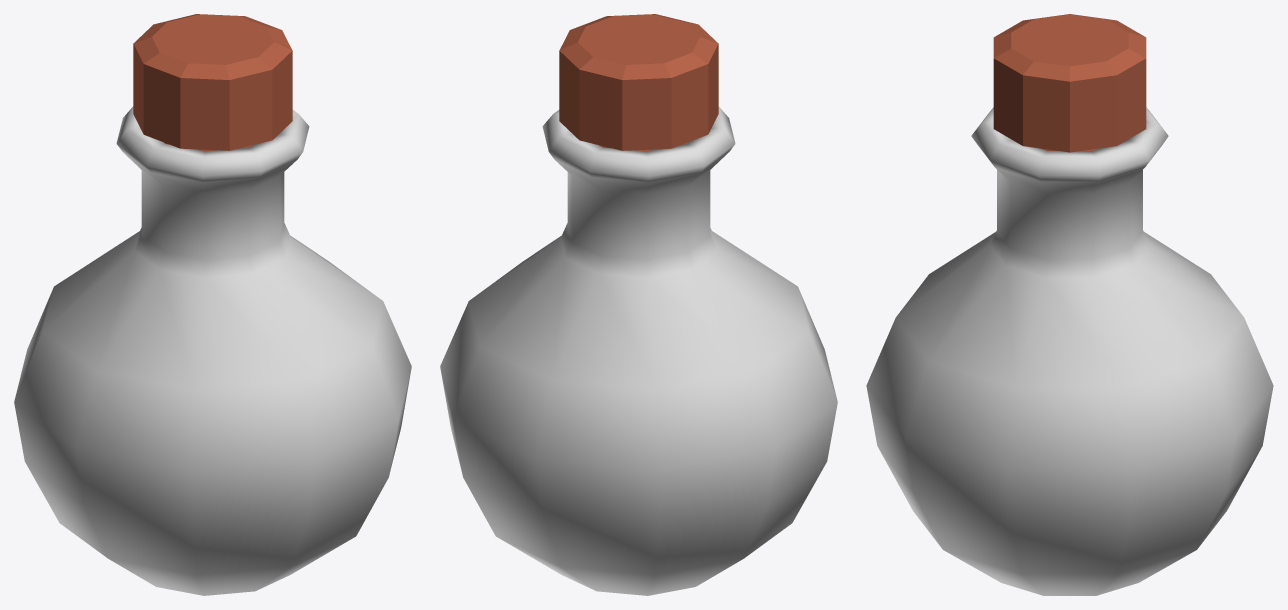
File: Potion_Use.fbx
3 renders of one model, left to right at view 1: azimuth 30°, elevation 25°; view 2: azimuth 150°, elevation 25°; view 3: azimuth 270°, elevation 25°, orthographic.
Parts seen in each view (by area): view 1: Potion, Potion_cap; view 2: Potion, Potion_cap; view 3: Potion, Potion_cap.
Boxes of the visible parts, x1,y1,x2,y2 form: Potion: (14, 106, 411, 595); Potion_cap: (133, 14, 292, 151); Potion: (440, 106, 837, 595); Potion_cap: (559, 14, 718, 151); Potion: (866, 107, 1273, 595); Potion_cap: (993, 14, 1146, 152).
Size of the model in its own units: 29.51 by 43.84 by 31.03.
